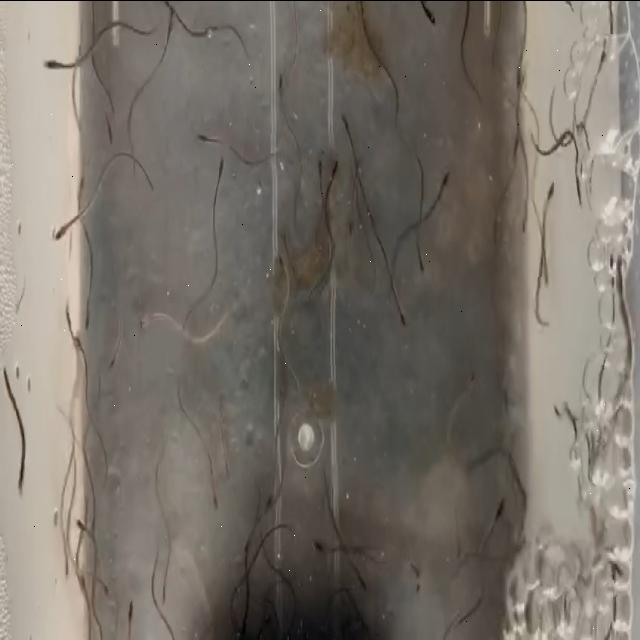active_glass_eel: (413, 250, 447, 300), (328, 150, 354, 206), (418, 0, 448, 42), (124, 583, 144, 639), (487, 489, 514, 528), (432, 162, 462, 194), (384, 302, 412, 336), (76, 508, 98, 548), (132, 294, 158, 326), (455, 364, 481, 396), (306, 530, 336, 556), (198, 484, 224, 512), (192, 120, 212, 156), (78, 302, 100, 334), (68, 333, 84, 377), (276, 71, 300, 100), (573, 168, 585, 222), (50, 214, 66, 252), (539, 173, 561, 199), (160, 570, 176, 604), (109, 342, 122, 382), (44, 44, 59, 78), (215, 156, 232, 183), (168, 0, 180, 38), (312, 147, 328, 171), (60, 292, 74, 316)
